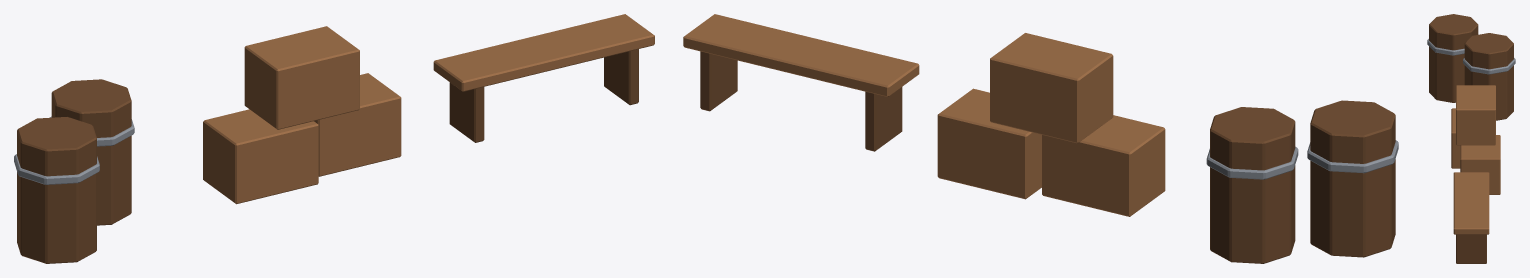
Rendered from hamnprylar.glb.
The picture shows the model from 3 angles, left to right: view 1: azimuth 30°, elevation 25°; view 2: azimuth 150°, elevation 25°; view 3: azimuth 270°, elevation 25°; orthographic projection. The views are drawn at different scales.
Visible parts, largest first — view 1: hamnprylar; view 2: hamnprylar; view 3: hamnprylar.
Part boxes in pixels (x1,y1,x2,y2): hamnprylar: [14, 14, 654, 263]; hamnprylar: [683, 14, 1398, 263]; hamnprylar: [1427, 14, 1515, 263].
Bounding box in the file's own units: 4.95 × 0.905 × 0.9923.
